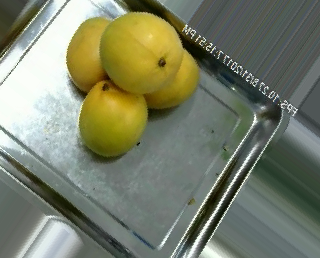Mango: (97, 10, 186, 93), (75, 78, 153, 168), (132, 37, 206, 120), (66, 14, 130, 93)
